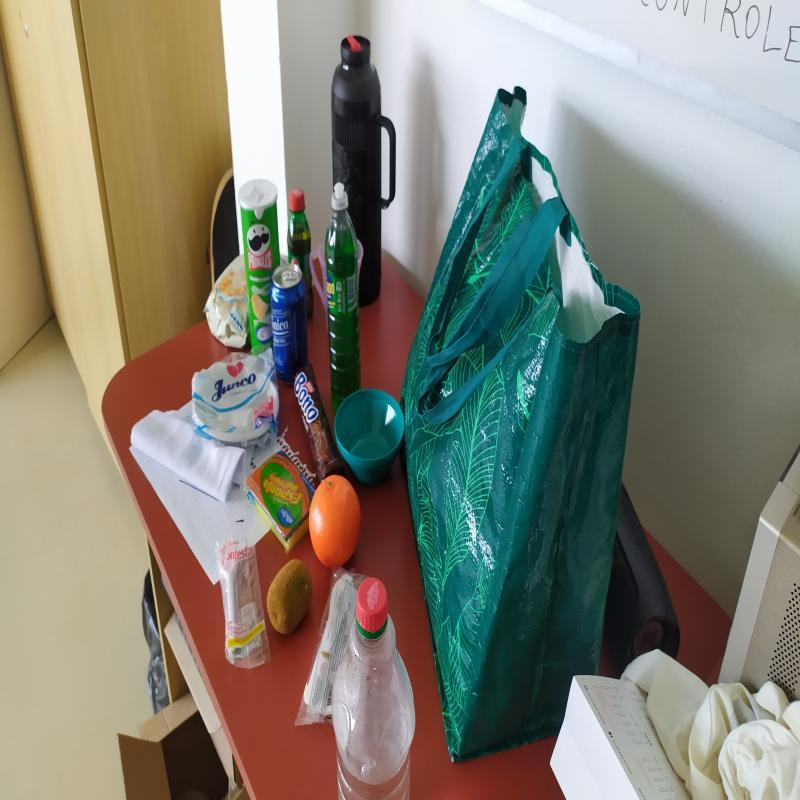Bag: (400, 84, 641, 760)
Bowl: (333, 387, 404, 485)
Cleaner: (324, 185, 362, 419)
Cookies: (294, 369, 338, 482)
CornFlakes: (205, 257, 252, 352)
Guarana: (287, 186, 314, 318)
Kiwi: (266, 556, 314, 645)
Orange: (309, 472, 362, 568)
Plate: (192, 358, 282, 447)
Pringles: (240, 181, 276, 357)
Sponge: (247, 449, 316, 558)
Tonic: (271, 267, 309, 383)
